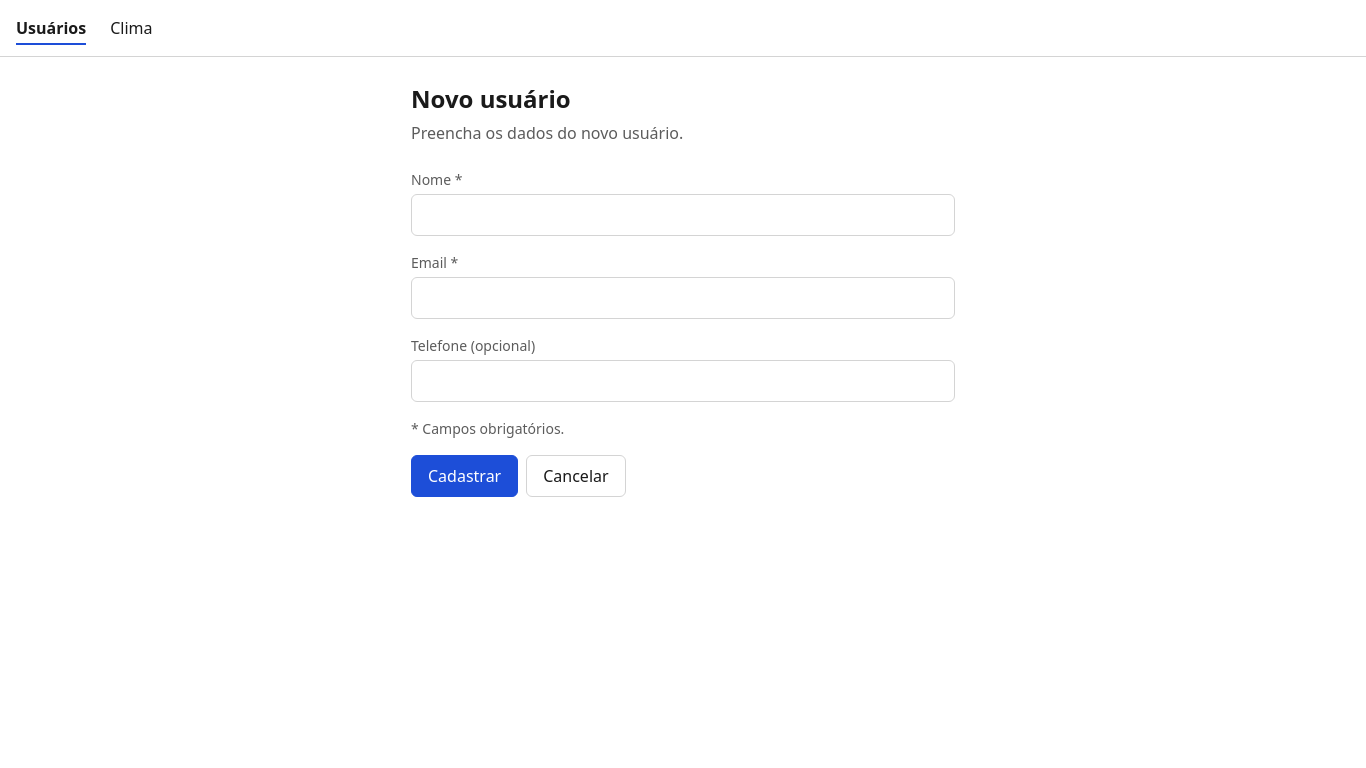
Test case: validação antes do envio › depois de tentar enviar, corrigir o campo limpa o erro
Click the button "Cadastrar". click: click(465, 476)
box: [411,455,518,497]
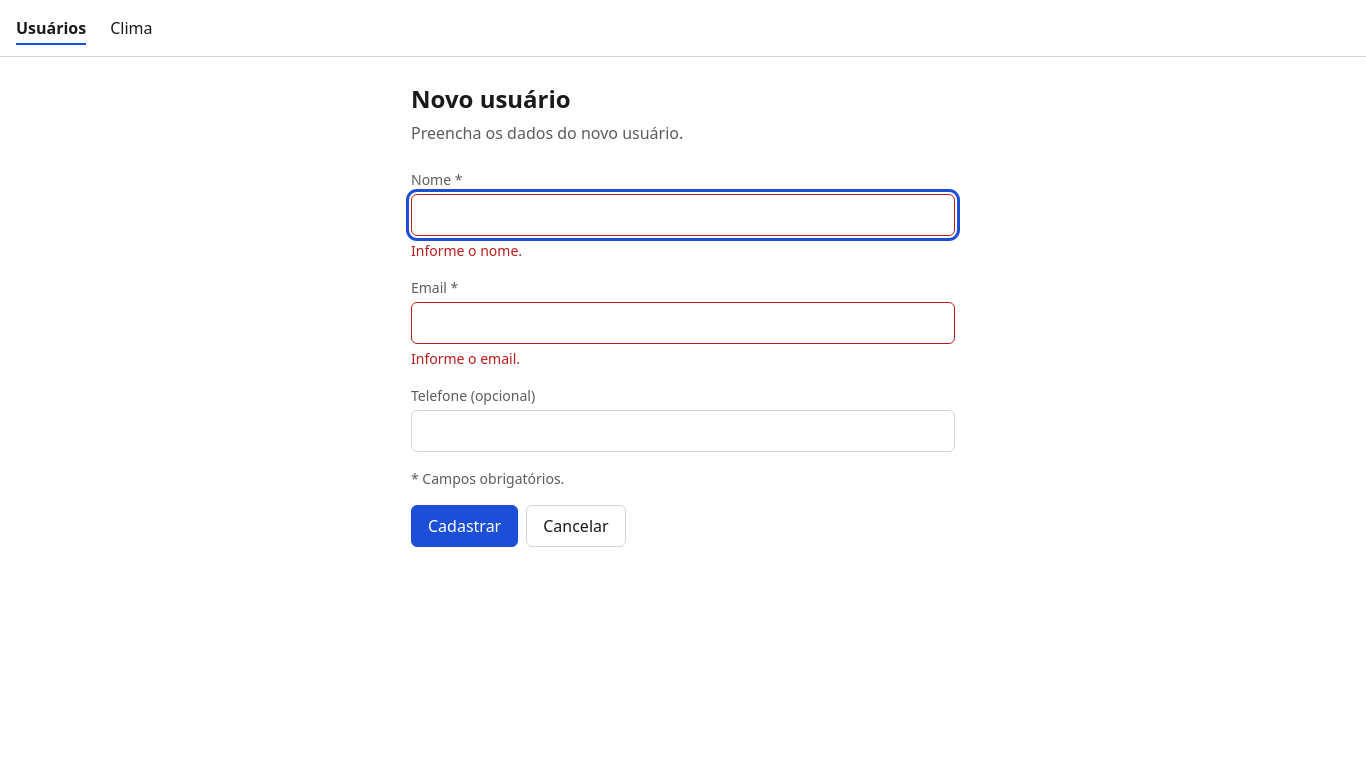
Expected: the text "Informe o nome." is shown, [411,241,522,260]
Type "Ana Souza" into the field labelled "Nome *". click: (683, 215)
box: [411,194,955,236]
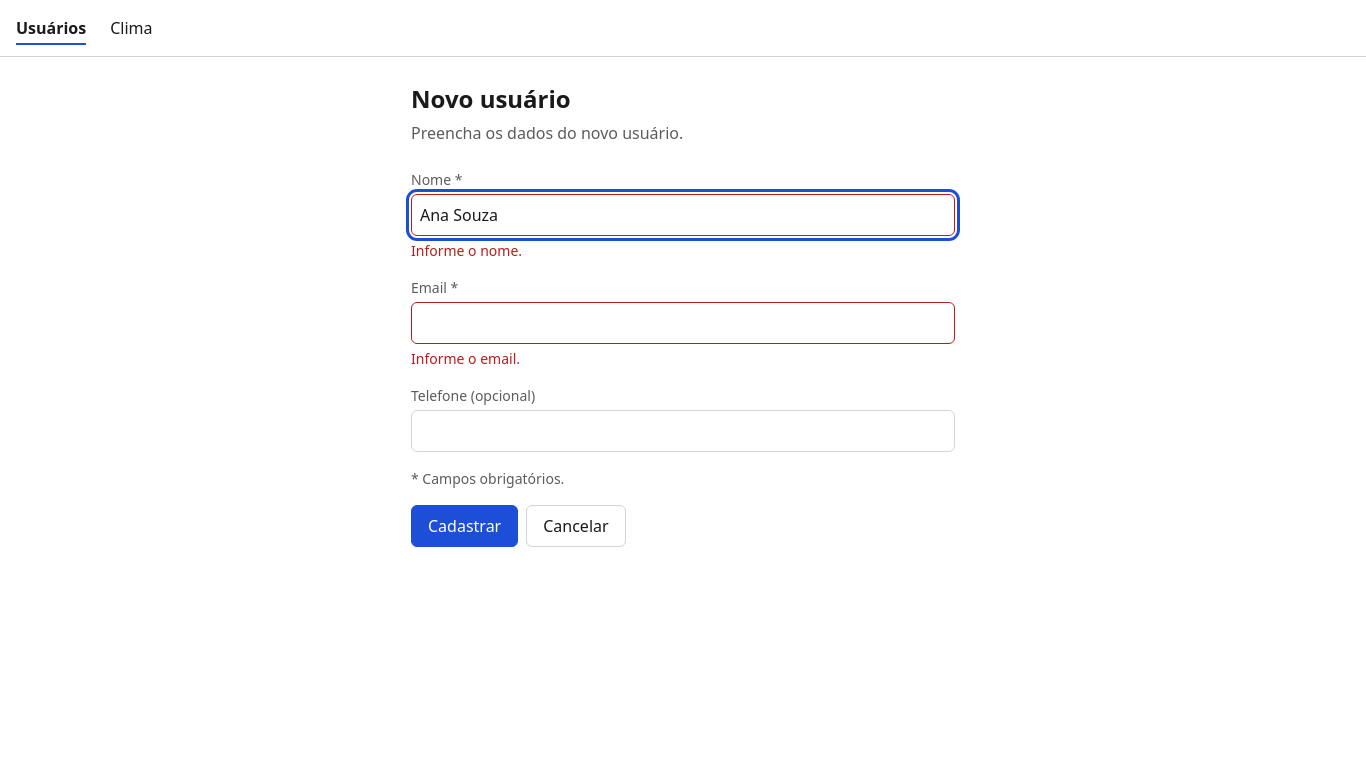
Press Tab
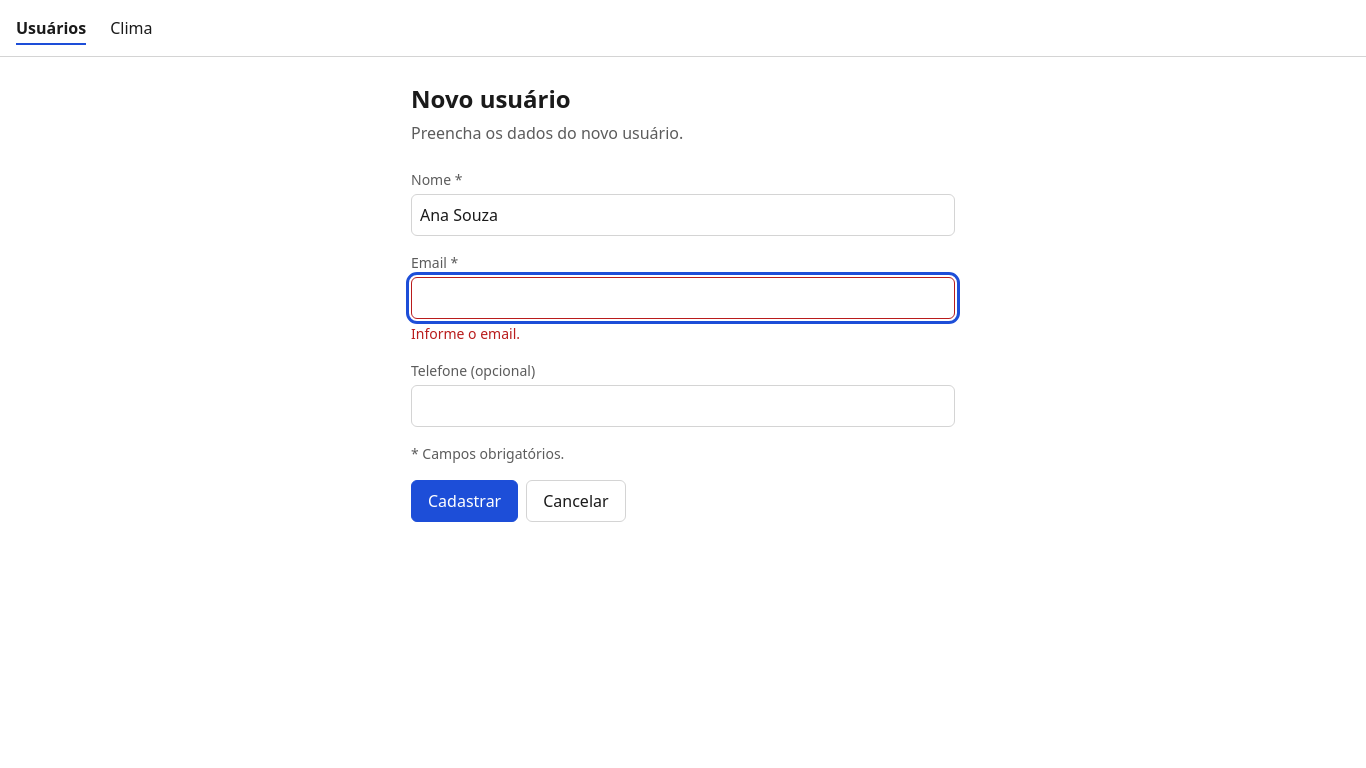
Expected: the text "Informe o nome" is gone
